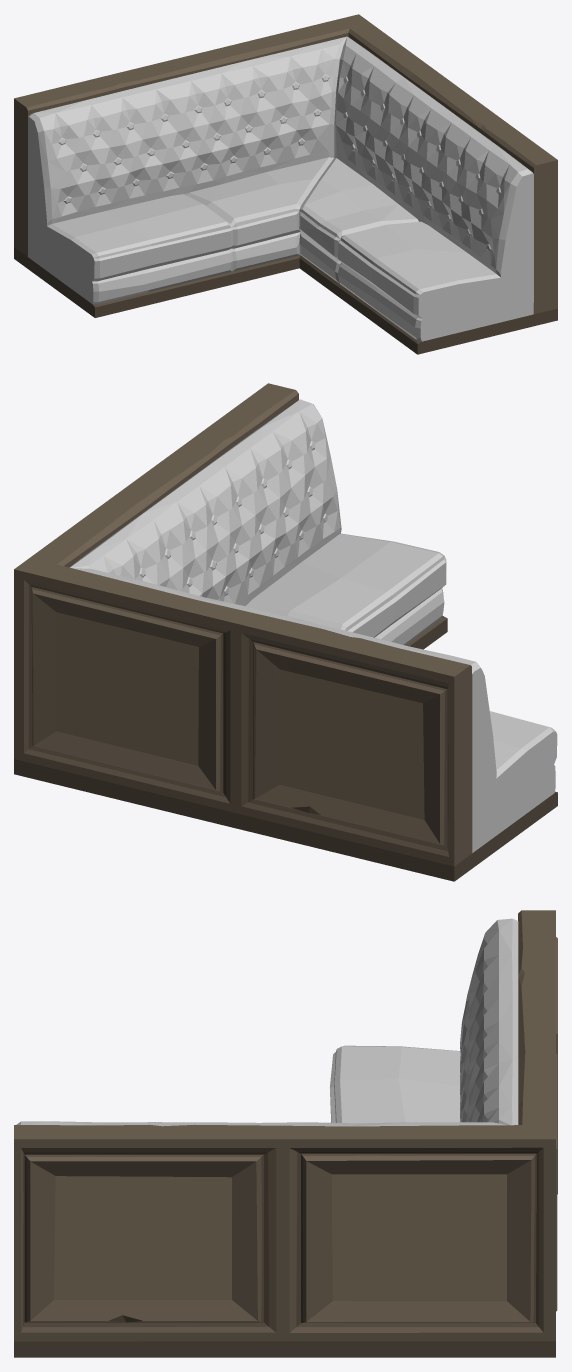
The model's file is SM_Prop_Sofa_01_Corner_01.fbx.
3 renders of one model, top to bottom at view 1: azimuth 30°, elevation 25°; view 2: azimuth 150°, elevation 25°; view 3: azimuth 270°, elevation 25°, orthographic. The views are drawn at different scales.
Parts seen in each view (by area): view 1: SM_Prop_Sofa_01_Corner_01; view 2: SM_Prop_Sofa_01_Corner_01; view 3: SM_Prop_Sofa_01_Corner_01.
Part boxes in pixels (x1=…): SM_Prop_Sofa_01_Corner_01: x1=14, y1=14, x2=557, y2=354; SM_Prop_Sofa_01_Corner_01: x1=14, y1=383, x2=557, y2=881; SM_Prop_Sofa_01_Corner_01: x1=14, y1=910, x2=557, y2=1357.
Size of the model in its own units: 251 by 111 by 251.
